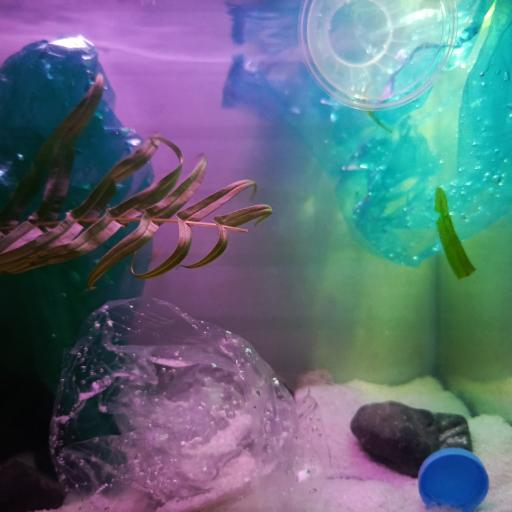bottle_cap: (418, 448, 489, 512)
plastic_bag: (219, 0, 512, 271), (0, 35, 156, 453), (47, 292, 338, 512)
plastic_cup: (298, 0, 458, 111)
